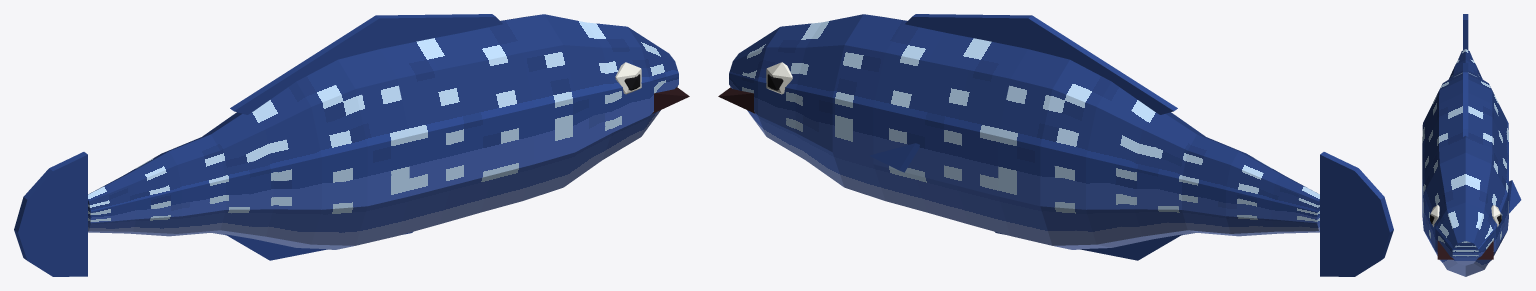
The model's file is western_blue_devil.glb.
The picture shows the model from 3 angles, left to right: view 1: azimuth 30°, elevation 25°; view 2: azimuth 150°, elevation 25°; view 3: azimuth 270°, elevation 25°; orthographic projection. The views are drawn at different scales.
Visible parts, largest first — view 1: fish_western_blue_devil; view 2: fish_western_blue_devil; view 3: fish_western_blue_devil.
Boxes of the visible parts, x1=… form: fish_western_blue_devil: x1=14, y1=14, x2=689, y2=276; fish_western_blue_devil: x1=718, y1=14, x2=1393, y2=276; fish_western_blue_devil: x1=1422, y1=14, x2=1521, y2=276.
Bounding box in the file's own units: 1.12 × 0.3658 × 0.2178.
5 materials, 1 textured.
